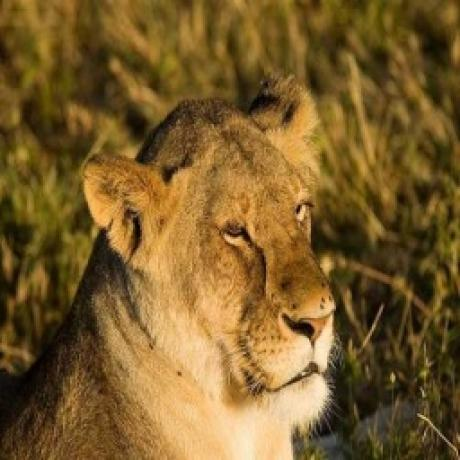Lion: (0, 71, 341, 458)
